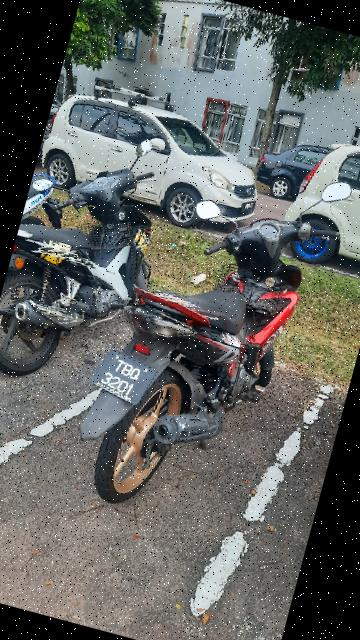License_Plate: (90, 348, 162, 413)
car: (32, 67, 279, 243), (275, 124, 360, 276)
motorcycle: (62, 129, 345, 541), (1, 110, 192, 406)
